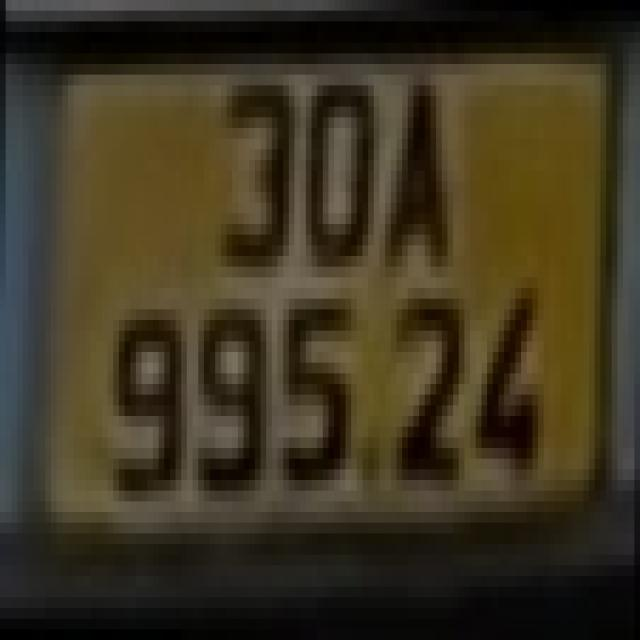0: (303, 69, 377, 272)
2: (391, 283, 464, 485)
3: (221, 69, 294, 272)
4: (476, 283, 544, 496)
5: (277, 294, 357, 486)
9: (111, 304, 184, 496), (196, 293, 264, 496)
A: (382, 69, 456, 272)
